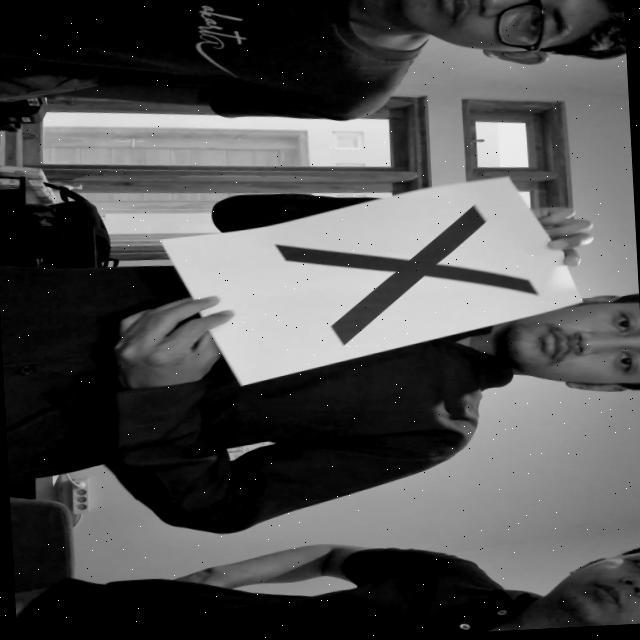x: (269, 198, 542, 360)
